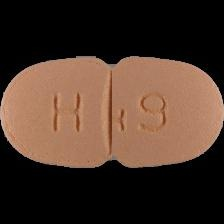23155-249: (0, 0, 224, 224)
